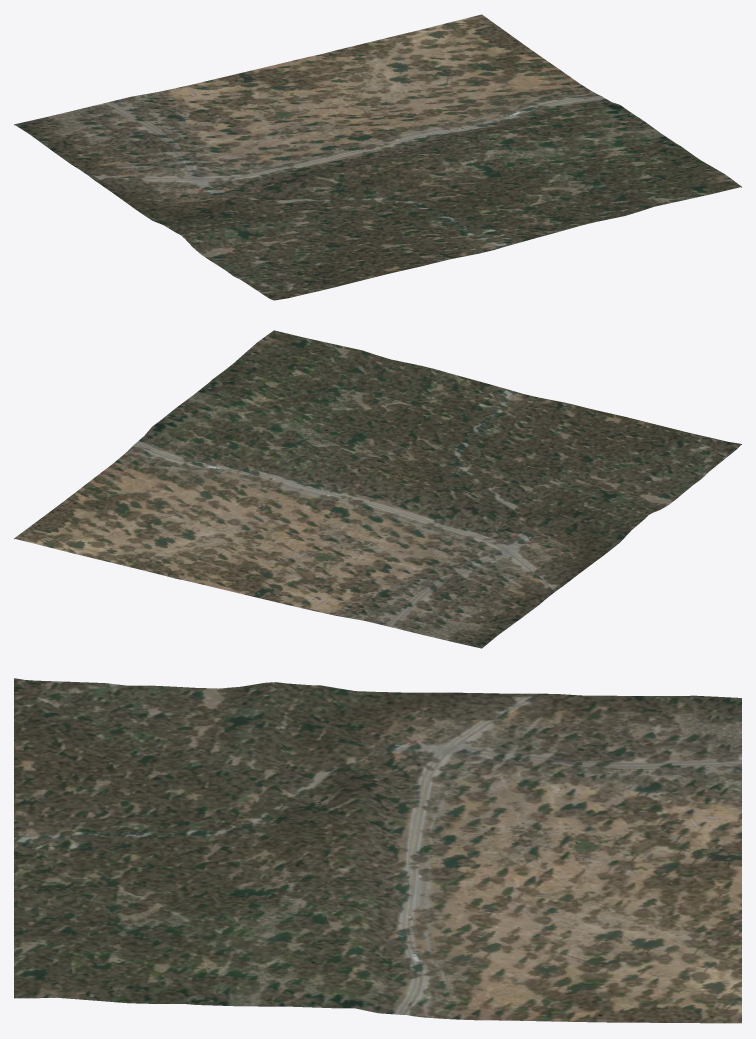
The picture shows the model from 3 angles, top to bottom: view 1: azimuth 30°, elevation 25°; view 2: azimuth 150°, elevation 25°; view 3: azimuth 270°, elevation 25°; orthographic projection. The views are drawn at different scales.
Size of the model in its own units: 500 by 21.46 by 481.
Materials: 1 (1 with a texture image).
